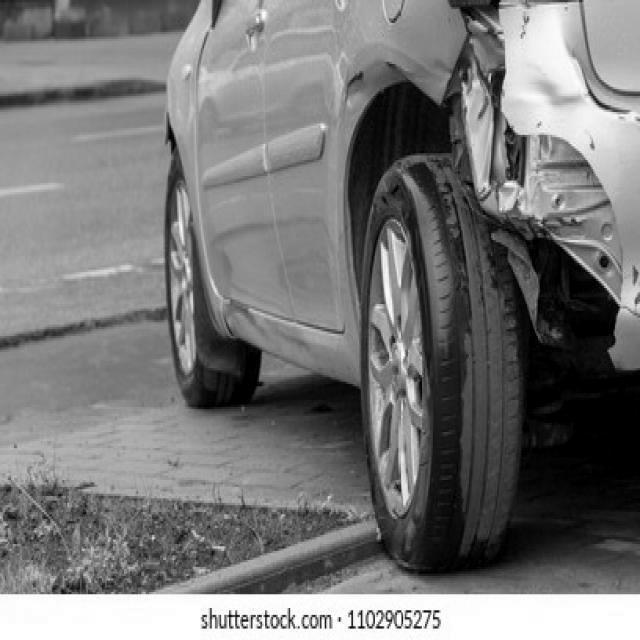rear-bumper-dent: (465, 89, 639, 346), (454, 3, 572, 102)
